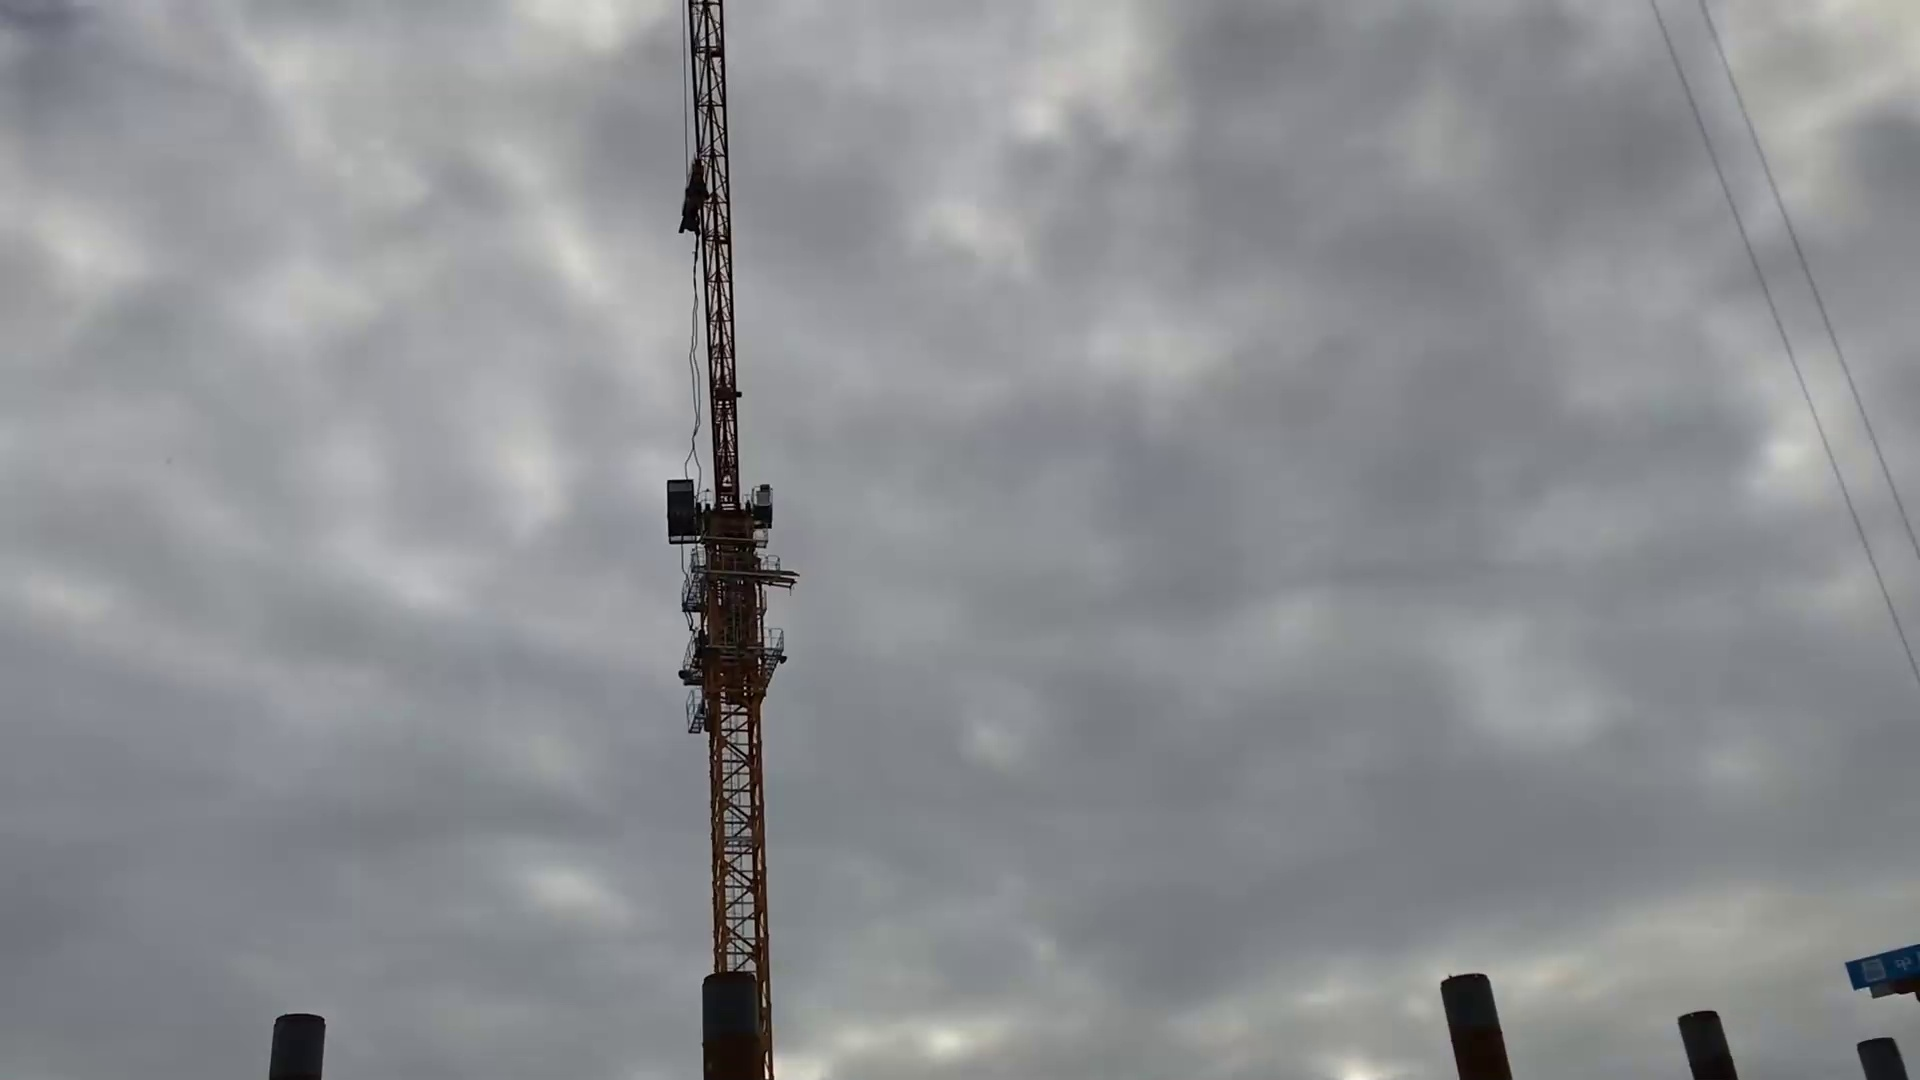hook: (673, 157, 707, 233)
